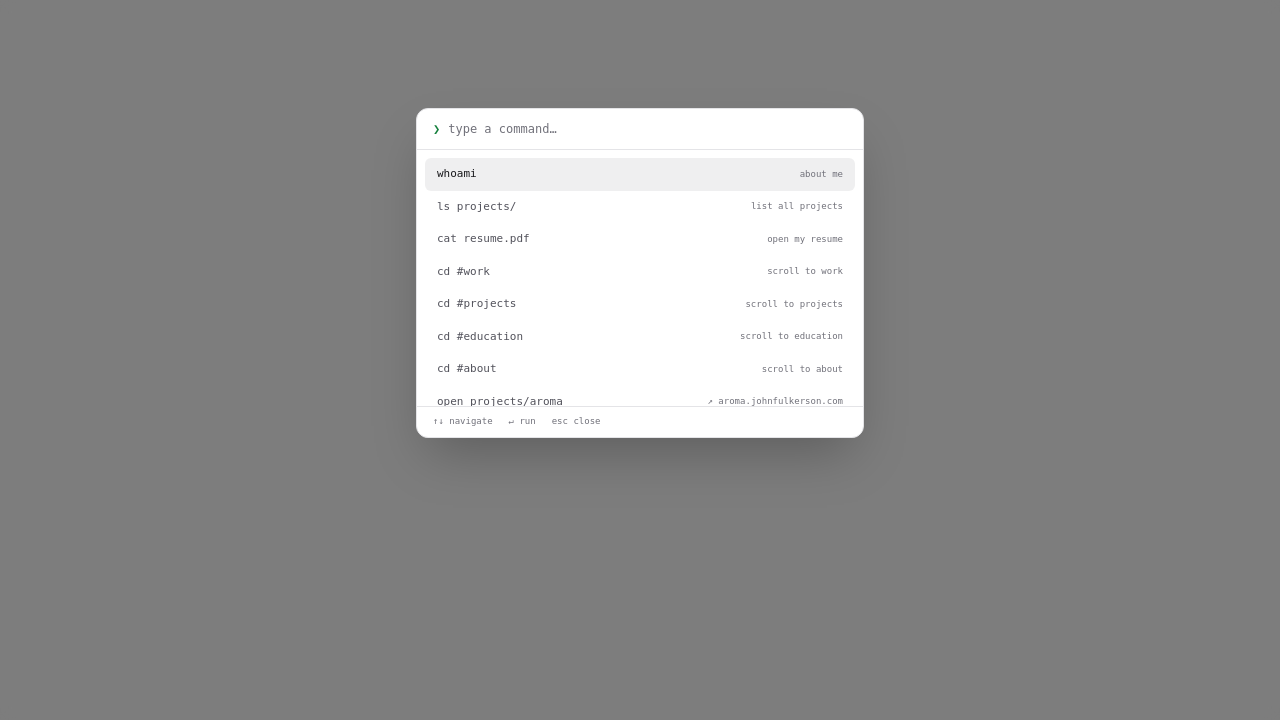
Scenario: CommandPalette › runs a REPL command on Enter and prints scrollback
Type "whoami" into the field named "Command input". click: (648, 129)
box: [448,121,847,137]
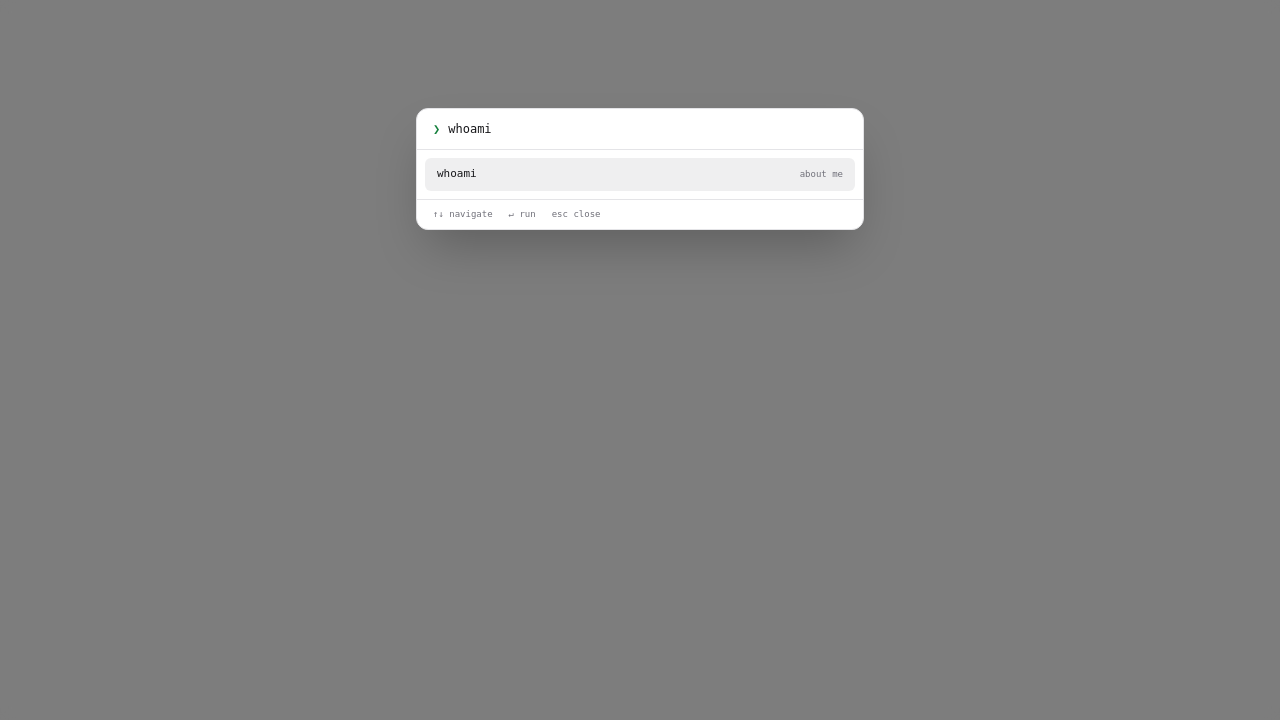
Press Enter in the field named "Command input", box [448,121,847,137]
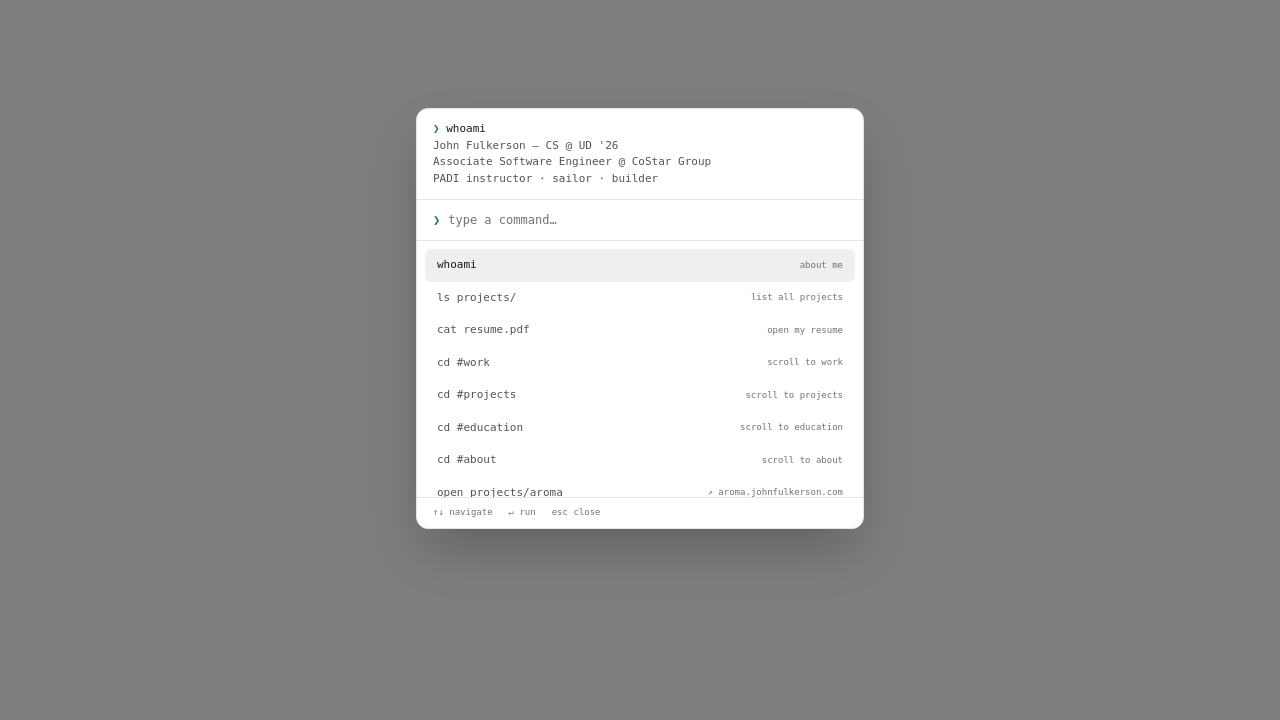
expect the element with test id "scrollback" shows "CoStar": met, box [433,155,711,168]
